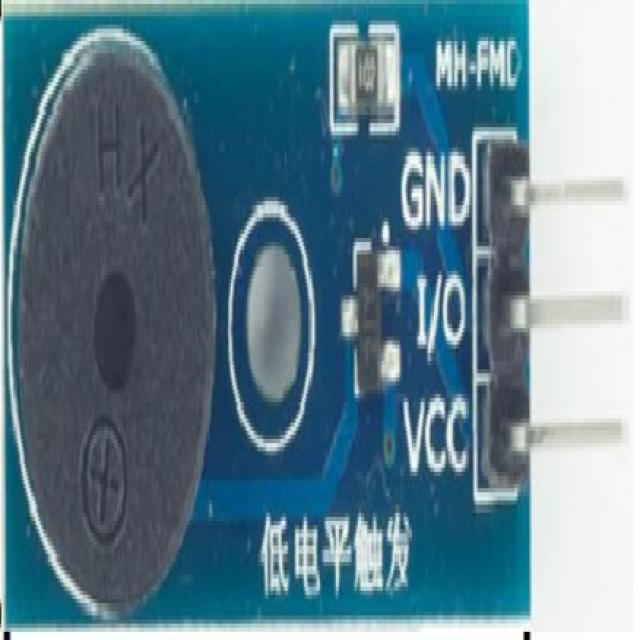4439: (352, 250, 394, 401)
buzzer: (15, 21, 219, 624)
connector -5v-: (479, 141, 628, 494)
resistor IR1: (341, 36, 390, 119)
